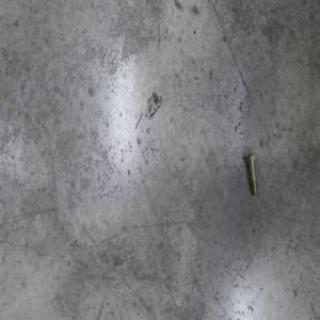Bolttrack_idkeyframe: (244, 150, 258, 196)
